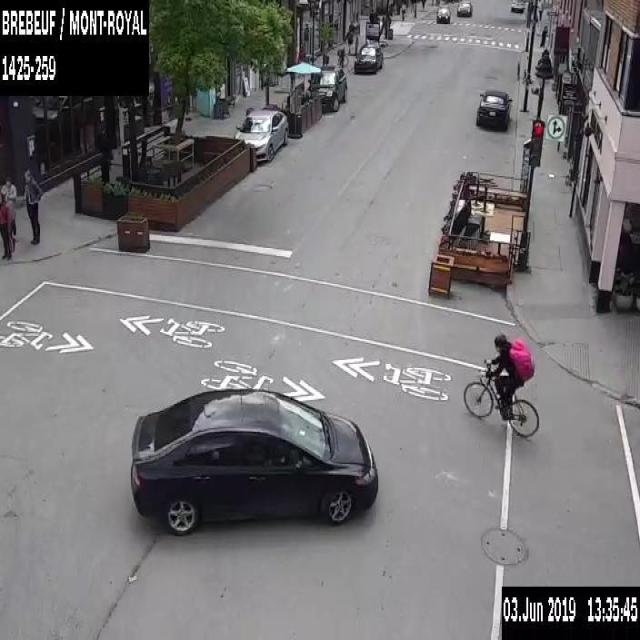cyclist: (462, 333, 537, 435)
pedestrian: (23, 171, 42, 245), (0, 178, 15, 257), (345, 25, 354, 55), (538, 25, 548, 48)
vehicle: (129, 388, 378, 532), (235, 105, 288, 160), (306, 64, 348, 109), (474, 85, 512, 128), (353, 41, 382, 71), (434, 4, 451, 23), (455, 0, 472, 15), (509, 0, 524, 12)
